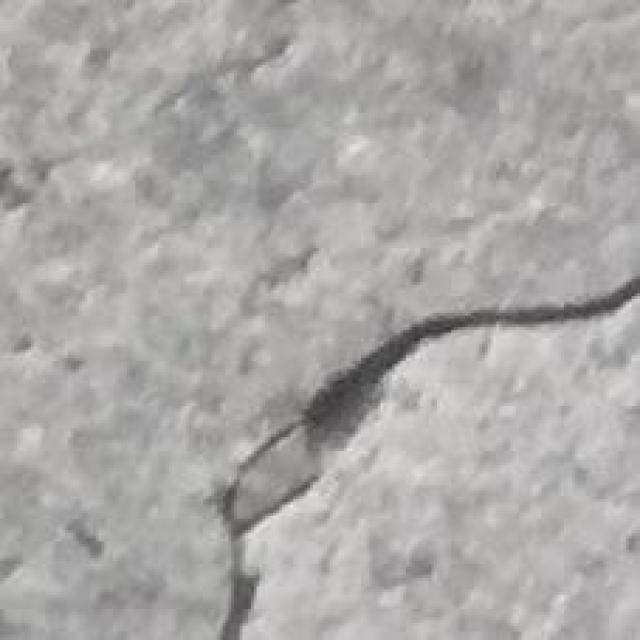Crack: (208, 276, 640, 639)
